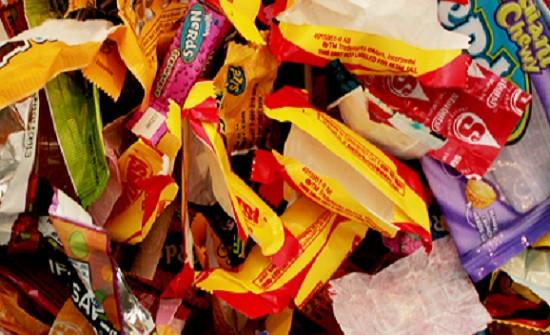Nonrec_Plastic: (3, 1, 547, 332), (265, 1, 524, 197), (262, 87, 440, 250), (161, 84, 250, 276)
